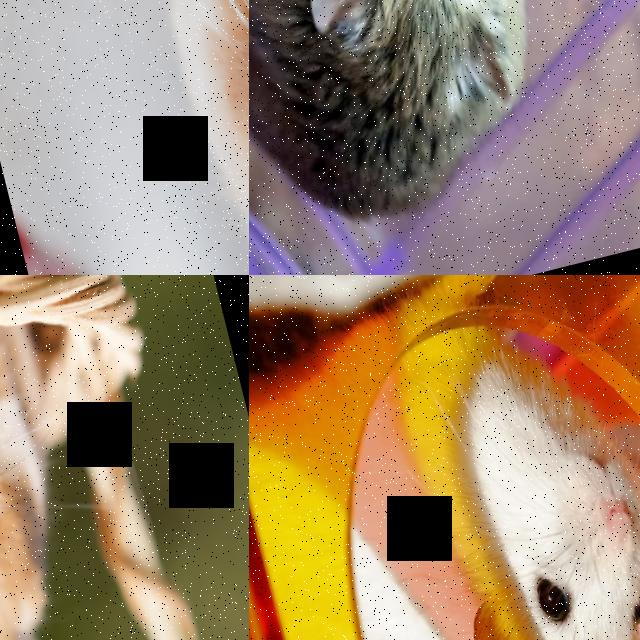hamster: (384, 288, 640, 640), (249, 0, 578, 253), (0, 292, 133, 640), (134, 0, 249, 275)
